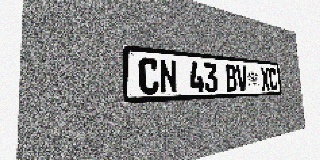3: (204, 62, 218, 92)
4: (189, 61, 205, 93)
B: (225, 64, 238, 92)
C: (138, 57, 159, 95), (268, 68, 278, 90)
N: (159, 59, 178, 94)
V: (236, 65, 248, 91)
X: (260, 67, 270, 90)
